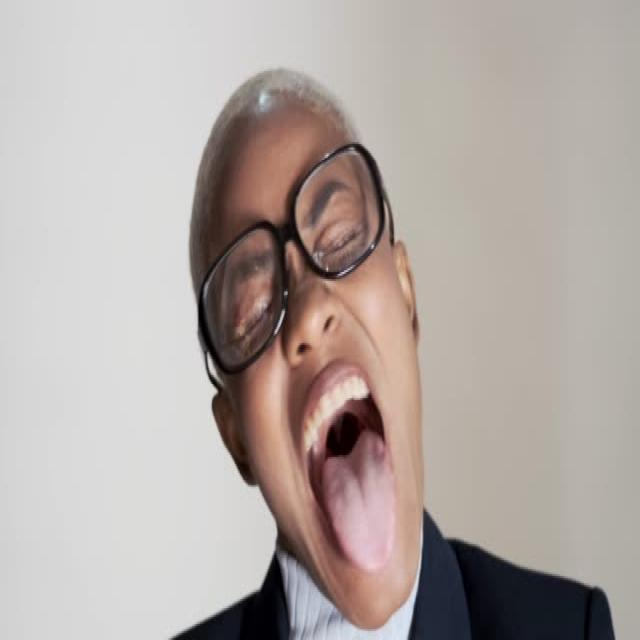tongue: (319, 432, 405, 582)
